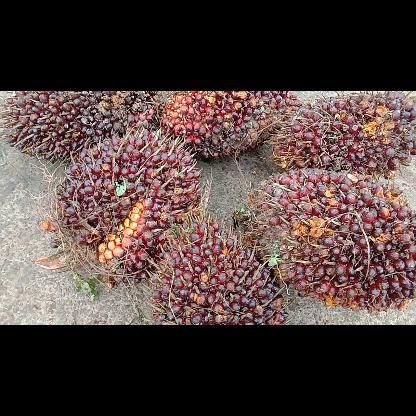Kurang masak: (233, 166, 416, 314), (52, 121, 204, 290), (148, 207, 294, 324), (271, 91, 415, 179), (0, 91, 159, 168), (156, 91, 302, 165)
